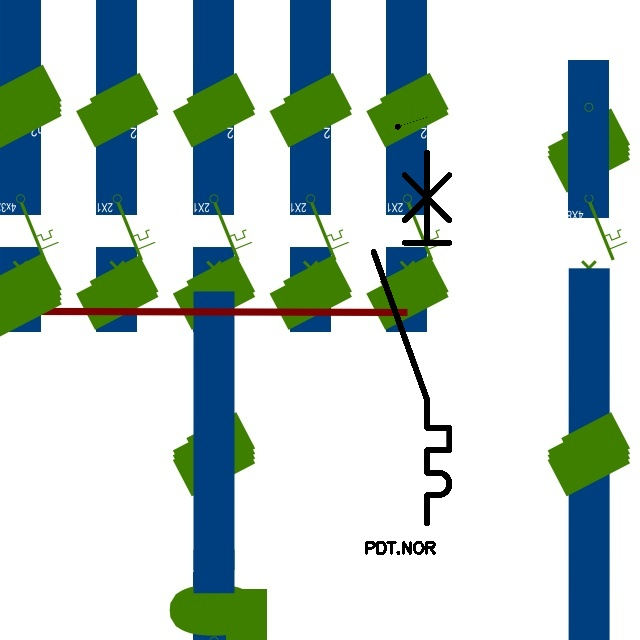interruptor_termomagnetico: (364, 143, 459, 533)
